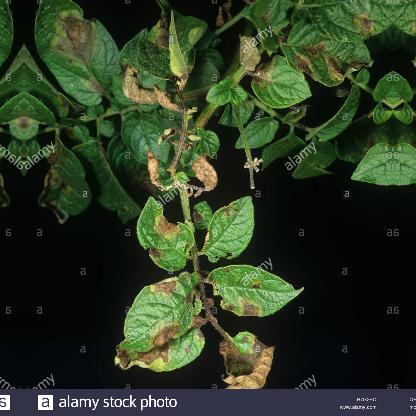Late-Blight: (110, 176, 308, 385)
